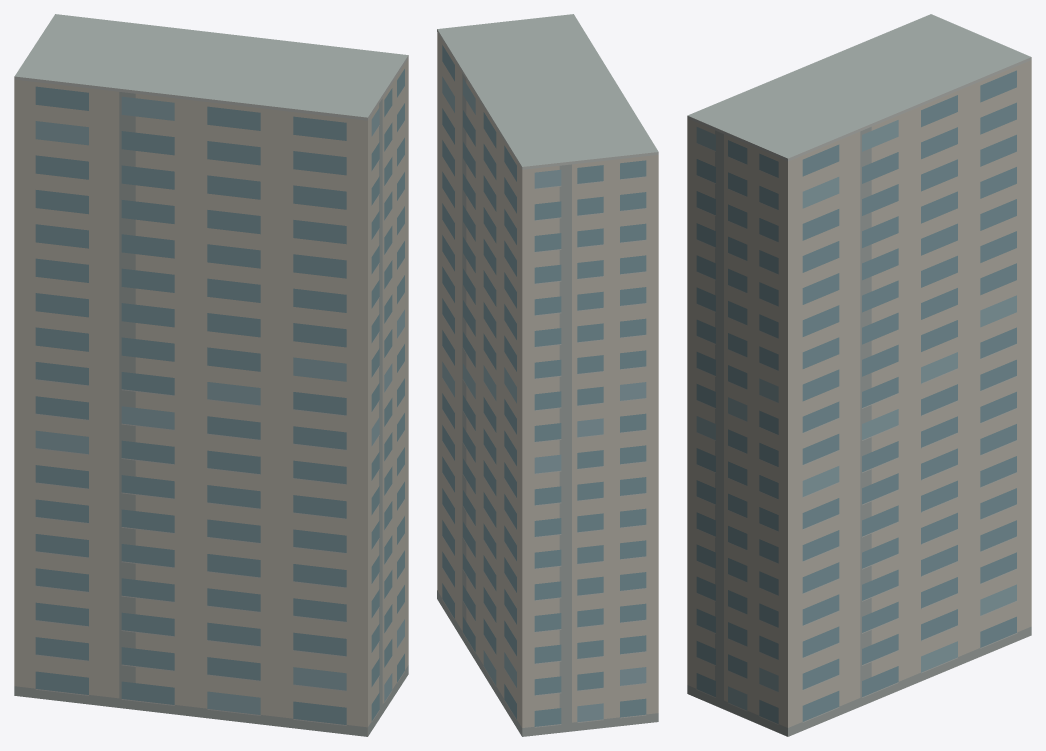
Rendered from residential-00c1c88c-1e5e-4358-a1e3-970358724187.glb.
3 renders of one model, left to right at view 1: azimuth 30°, elevation 25°; view 2: azimuth 150°, elevation 25°; view 3: azimuth 270°, elevation 25°, orthographic. The views are drawn at different scales.
Parts seen in each view (by area): view 1: residential-00c1c88c-1e5e-4358-a1e3-970358724187.tmp; view 2: residential-00c1c88c-1e5e-4358-a1e3-970358724187.tmp; view 3: residential-00c1c88c-1e5e-4358-a1e3-970358724187.tmp.
Part boxes in pixels (bbox=[...]): residential-00c1c88c-1e5e-4358-a1e3-970358724187.tmp: bbox=[14, 14, 408, 736]; residential-00c1c88c-1e5e-4358-a1e3-970358724187.tmp: bbox=[437, 14, 658, 736]; residential-00c1c88c-1e5e-4358-a1e3-970358724187.tmp: bbox=[687, 14, 1031, 736].
Size of the model in its own units: 25.75 by 48 by 25.9.
